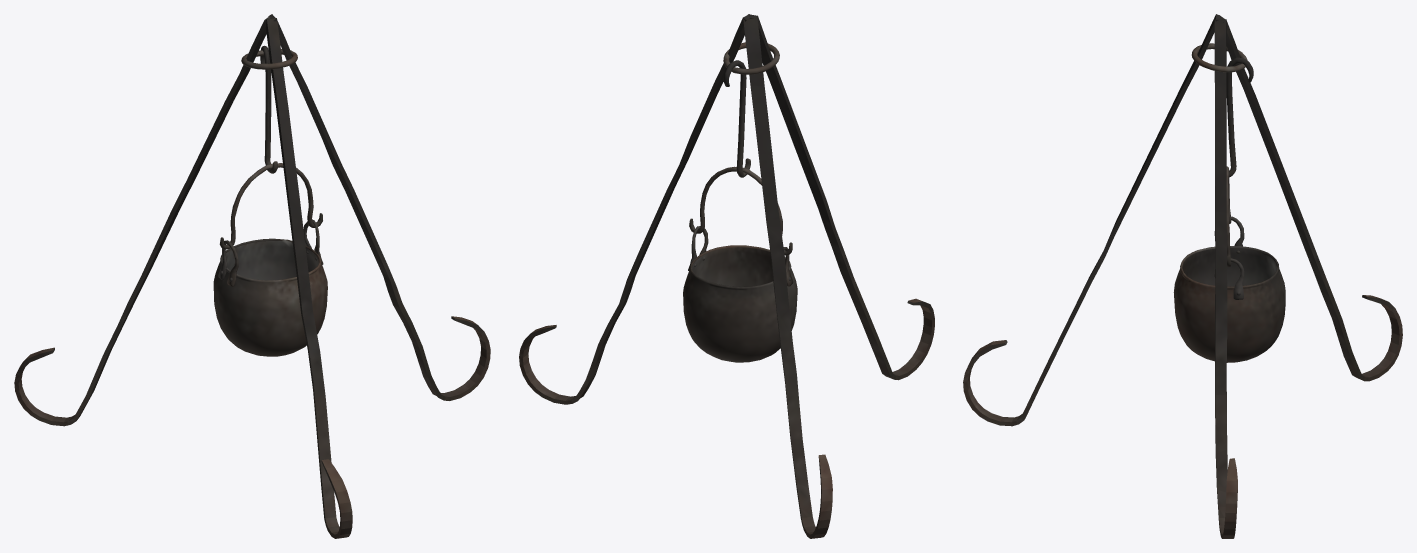
File: CookingPot_02.fbx
3 views of the same model, side by side, from view 1: azimuth 30°, elevation 25°; view 2: azimuth 150°, elevation 25°; view 3: azimuth 270°, elevation 25° (orthographic).
Visible parts, largest first — view 1: Cooking_Stand_01, CookingPot_02; view 2: Cooking_Stand_01, CookingPot_02; view 3: Cooking_Stand_01, CookingPot_02.
Part boxes in pixels (<box>): Cooking_Stand_01: <box>14,14,490,538</box>; CookingPot_02: <box>213,45,327,356</box>; Cooking_Stand_01: <box>519,14,934,538</box>; CookingPot_02: <box>683,60,797,362</box>; Cooking_Stand_01: <box>963,14,1402,538</box>; CookingPot_02: <box>1173,57,1285,362</box>.
Size of what is drawn, in the model's own units: 153 by 160 by 149.
